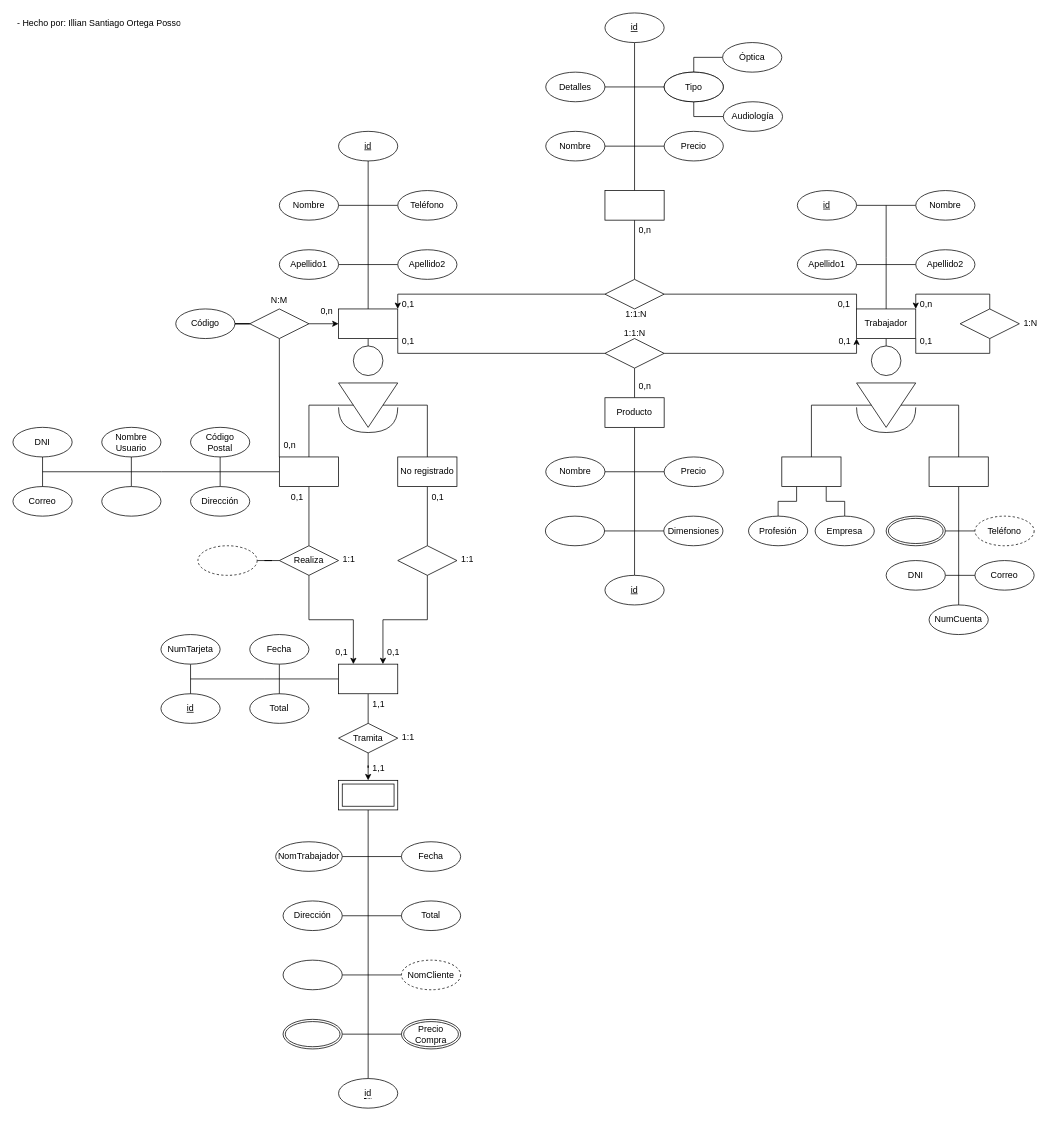
Some shapes in this 1055 by 1121 pixel diagram are drawn without their labels. The shapes that lost their labels are listed below. From the top down, each one's centre as x and y in pixels, then its label:
the point at 634,205: Servicio
the point at 634,294: Ofrece
the point at 279,323: Promociona
the point at 368,323: Cliente
the point at 989,323: Es jefe de
the point at 634,353: Compra
the point at 309,471: Registrado
the point at 811,471: Externo
the point at 958,471: Interno
the point at 131,501: Contraseña
the point at 575,530: Color
the point at 915,530: Habilidades
the point at 227,560: Oferta
the point at 427,560: Hace
the point at 368,678: Pago
the point at 368,795: Factura
the point at 312,974: idCliente
the point at 312,1034: Nombre Compra
